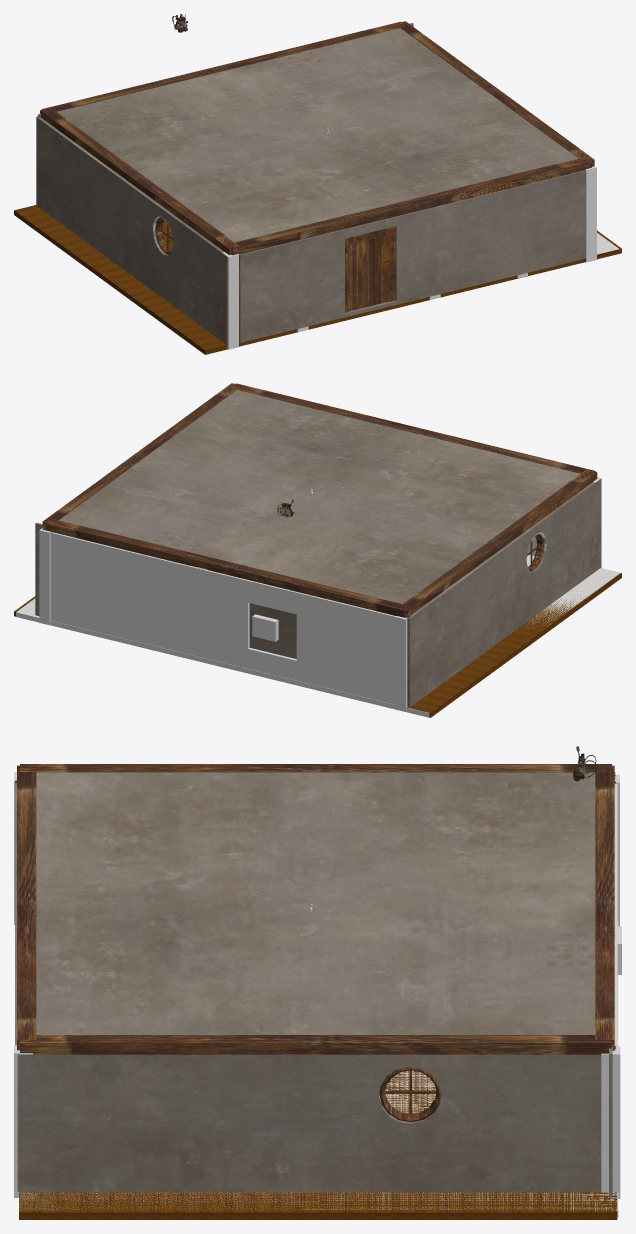
Rendered from house-webp.glb.
3 views of the same model, one above another, from view 1: azimuth 30°, elevation 25°; view 2: azimuth 150°, elevation 25°; view 3: azimuth 270°, elevation 25° (orthographic). The views are drawn at different scales.
Visible parts, largest first — view 1: HOUSE_ROOF, HOUSE_WALL_FRONT, HOUSE_WALL_LEFT, HOUSE_FLOOR, Flat_Beams_Front, INTERACT_EXIT_DOOR_01, Flat_Beams_Left, Flat_Beams_Back, Flat_Beams_Right, COL_BOX_BEAM_CORNER_02, COL_BOX_BEAM_CORNER_01, Cube.008; view 2: HOUSE_ROOF, COL_BOX_HOUSE_WALL_BACK, HOUSE_WALL_LEFT, Flat_Beams_Back, HOUSE_FLOOR, COL_BOX_HOUSE_FLOOR, Flat_Beams_Left, Flat_Beams_Front, HOUSE_WALL_BACK, Flat_Beams_Right, COL_BOX_BEAM_CORNER_03, COL_BOX_BEAM_CORNER_04 (+2 smaller); view 3: HOUSE_ROOF, HOUSE_WALL_RIGHT, HOUSE_FLOOR, Flat_Beams_Right, Flat_Beams_Back, Flat_Beams_Front, Flat_Beams_Left, COL_BOX_HOUSE_FLOOR, COL_BOX_BEAM_CORNER_04, Cube.008, COL_BOX_HOUSE_WALL_BACK, COL_BOX_HOUSE_WINDOW_ROUND_FRAME.001 (+1 smaller).
Part boxes in pixels (x1,y1,x2,y2): HOUSE_ROOF: (57, 28, 578, 242); HOUSE_WALL_FRONT: (240, 170, 585, 342); HOUSE_WALL_LEFT: (36, 116, 227, 345); HOUSE_FLOOR: (14, 205, 621, 354); Flat_Beams_Front: (231, 157, 591, 255); INTERACT_EXIT_DOOR_01: (342, 226, 396, 321); Flat_Beams_Left: (40, 108, 239, 255); Flat_Beams_Back: (41, 21, 406, 113); Flat_Beams_Right: (400, 21, 594, 166); COL_BOX_BEAM_CORNER_02: (222, 252, 238, 349); COL_BOX_BEAM_CORNER_01: (585, 166, 596, 262); Cube.008: (281, 50, 325, 69); HOUSE_ROOF: (59, 390, 580, 604); COL_BOX_HOUSE_WALL_BACK: (50, 532, 395, 704); HOUSE_WALL_LEFT: (405, 479, 601, 707); Flat_Beams_Back: (45, 518, 410, 617); HOUSE_FLOOR: (14, 568, 621, 717); COL_BOX_HOUSE_FLOOR: (16, 555, 619, 717); Flat_Beams_Left: (402, 469, 597, 614); Flat_Beams_Front: (230, 383, 595, 473); HOUSE_WALL_BACK: (35, 522, 410, 658); Flat_Beams_Right: (42, 383, 236, 525); COL_BOX_BEAM_CORNER_03: (395, 616, 407, 711); COL_BOX_BEAM_CORNER_04: (39, 528, 50, 625); HOUSE_ROOF: (36, 772, 595, 1034); HOUSE_WALL_RIGHT: (17, 1054, 601, 1192); HOUSE_FLOOR: (19, 1070, 617, 1219); Flat_Beams_Right: (20, 1035, 611, 1054); Flat_Beams_Back: (595, 765, 614, 1050); Flat_Beams_Front: (17, 765, 36, 1050); Flat_Beams_Left: (20, 764, 611, 772); COL_BOX_HOUSE_FLOOR: (19, 921, 618, 1217); COL_BOX_BEAM_CORNER_04: (601, 1046, 620, 1198); Cube.008: (543, 944, 595, 965); COL_BOX_HOUSE_WALL_BACK: (614, 783, 617, 1046); COL_BOX_HOUSE_WINDOW_ROUND_FRAME.001: (379, 1067, 441, 1122).
Bounding box in the file's own units: 23.53 × 9.31 × 19.
19 materials, 6 textured.
